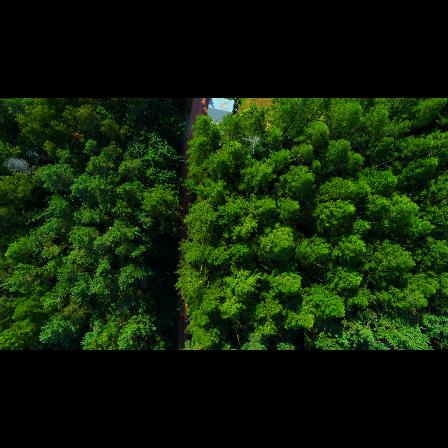Dead: (2, 156, 30, 176), (243, 133, 264, 153), (26, 146, 47, 163)
